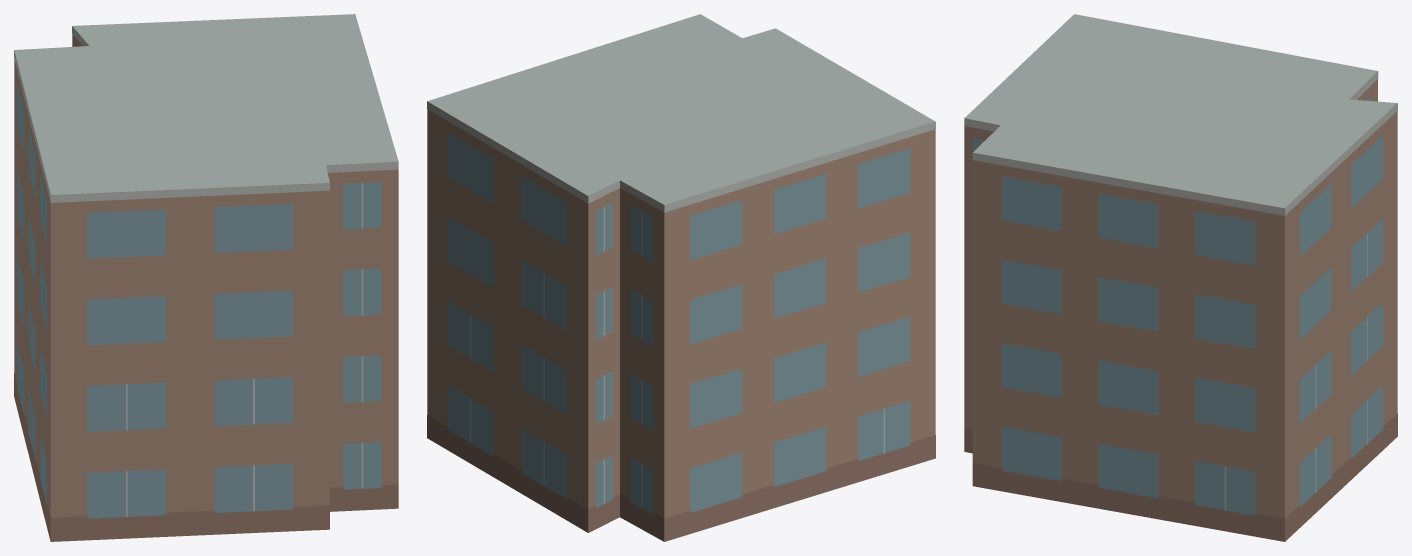
The model's file is survey-upis-32564708.glb.
The picture shows the model from 3 angles, left to right: view 1: azimuth 30°, elevation 25°; view 2: azimuth 150°, elevation 25°; view 3: azimuth 270°, elevation 25°; orthographic projection. The views are drawn at different scales.
Parts seen in each view (by area): view 1: survey-upis-32564708.tmp; view 2: survey-upis-32564708.tmp; view 3: survey-upis-32564708.tmp.
Boxes of the visible parts, bbox=[...] form: survey-upis-32564708.tmp: bbox=[14, 14, 398, 541]; survey-upis-32564708.tmp: bbox=[427, 14, 935, 541]; survey-upis-32564708.tmp: bbox=[964, 14, 1397, 541].
Size of the model in its own units: 13.51 by 10.8 by 12.73.
